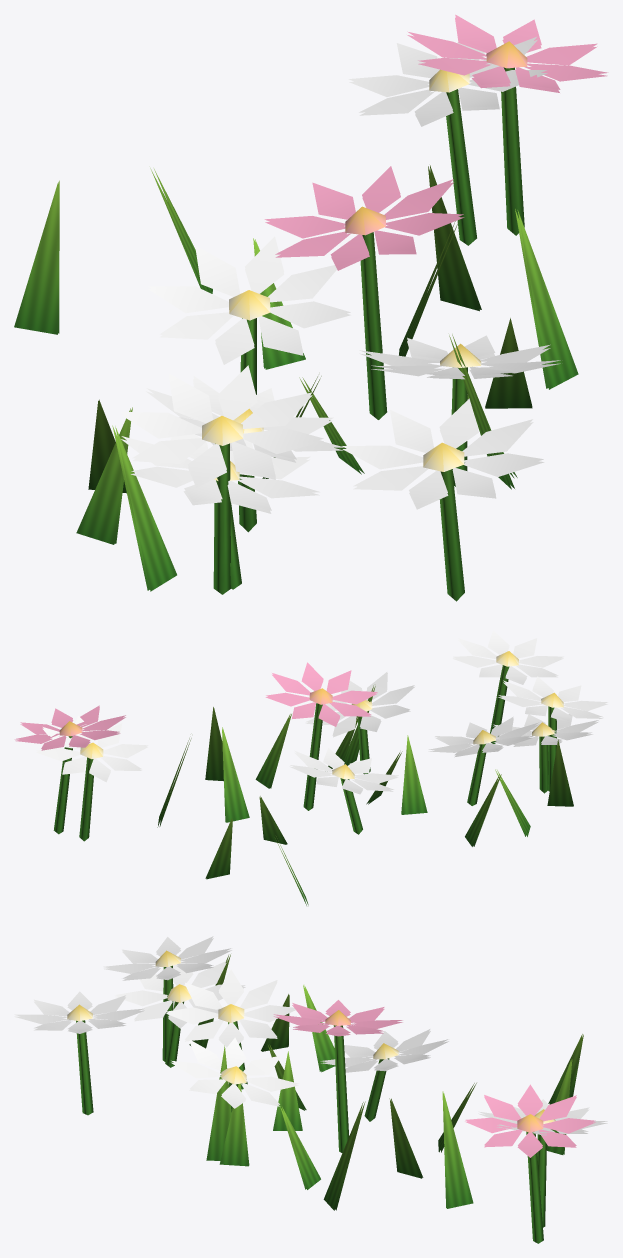
Rendered from Kit_FlowerPatch.fbx.
3 views of the same model, one above another, from view 1: azimuth 30°, elevation 25°; view 2: azimuth 150°, elevation 25°; view 3: azimuth 270°, elevation 25° (orthographic). The views are drawn at different scales.
Parts seen in each view (by area): view 1: Kit_FlowerPatch; view 2: Kit_FlowerPatch; view 3: Kit_FlowerPatch.
Boxes of the visible parts, x1,y1,x2,y2 form: Kit_FlowerPatch: (14,14,608,601); Kit_FlowerPatch: (14,630,607,905); Kit_FlowerPatch: (14,936,607,1243).
Bounding box in the file's own units: 5.14 × 1.46 × 5.6.
1 material, 1 textured.
